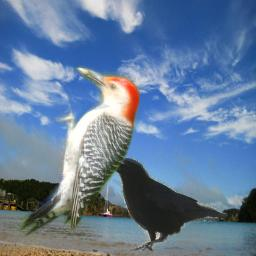Crow: (101, 155, 228, 251)
Woodpecker: (12, 60, 140, 244)
